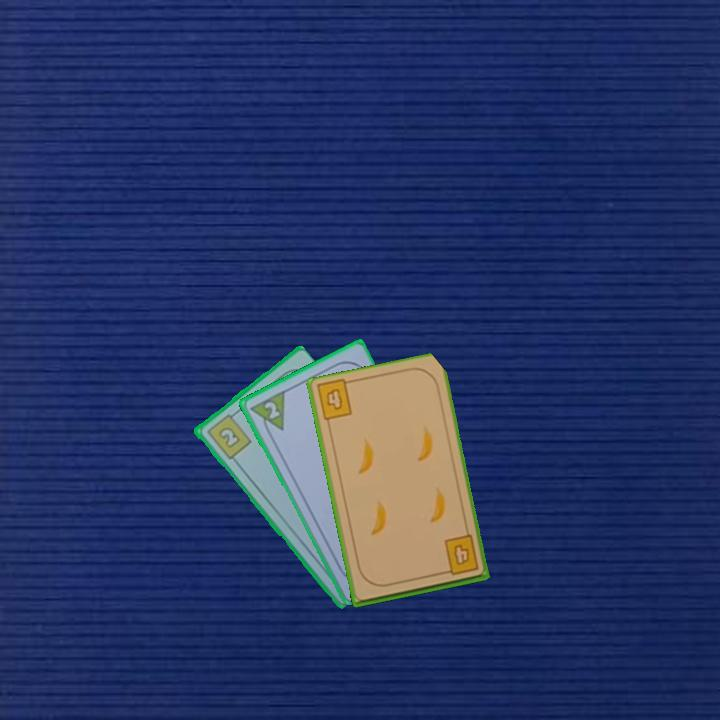2b: (203, 408, 254, 462)
2p: (246, 386, 288, 439)
4b: (438, 532, 481, 578), (322, 384, 345, 413)
